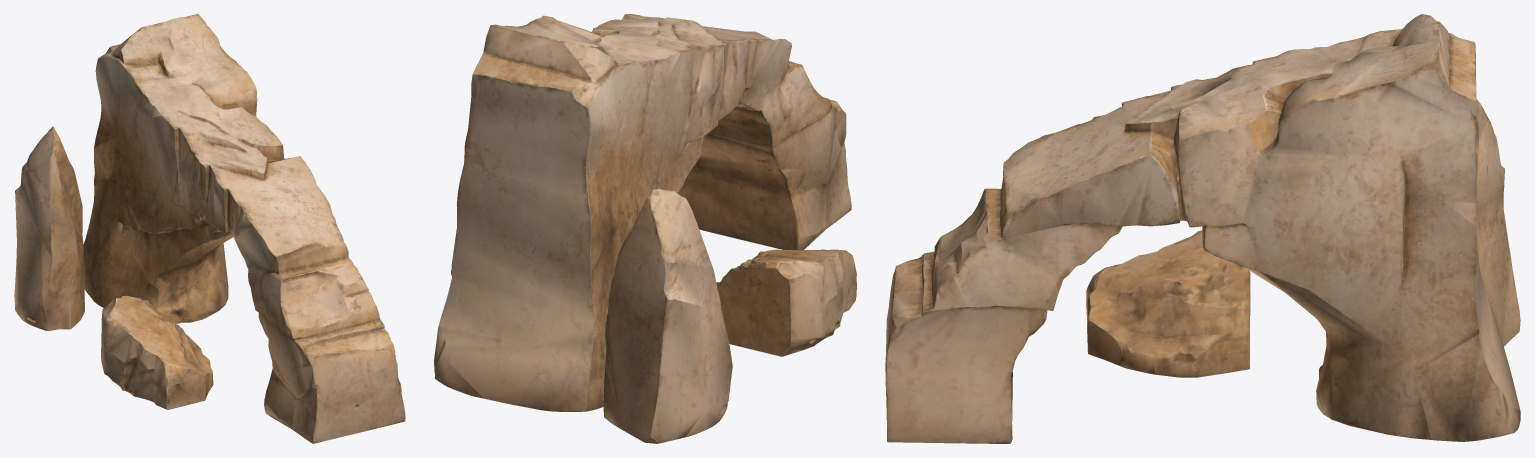
File: rock_slab_b.glb
3 renders of one model, left to right at view 1: azimuth 30°, elevation 25°; view 2: azimuth 150°, elevation 25°; view 3: azimuth 270°, elevation 25°, orthographic. The views are drawn at different scales.
Visible parts, largest first — view 1: model.005; view 2: model.005; view 3: model.005.
Boxes of the visible parts, left/top/right/bottom form: model.005: left=14, top=14, right=405, bottom=443; model.005: left=434, top=14, right=856, bottom=443; model.005: left=885, top=14, right=1520, bottom=443.
Bounding box in the file's own units: 0.9633 × 1.24 × 1.9.
Materials: 1 (1 with a texture image).
